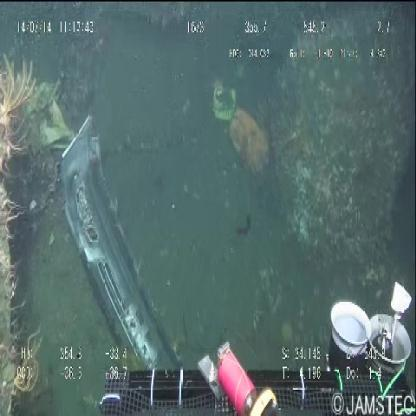Rov: (86, 274, 416, 411)
Rác: (47, 108, 189, 370)
